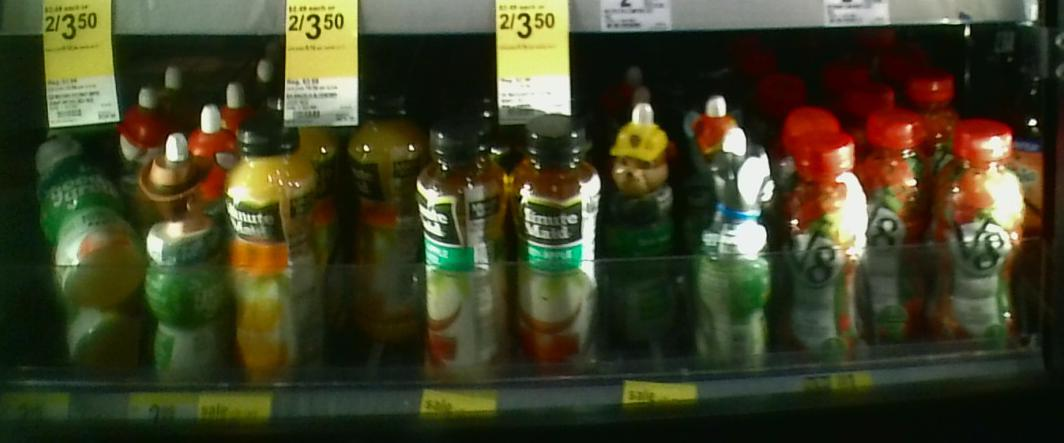bottle: (30, 118, 144, 371), (229, 111, 320, 382), (515, 103, 602, 386), (427, 119, 514, 373), (335, 98, 422, 345), (689, 133, 779, 364), (142, 187, 239, 382), (936, 112, 1013, 350), (788, 133, 868, 358), (614, 98, 686, 343), (859, 106, 931, 344)
